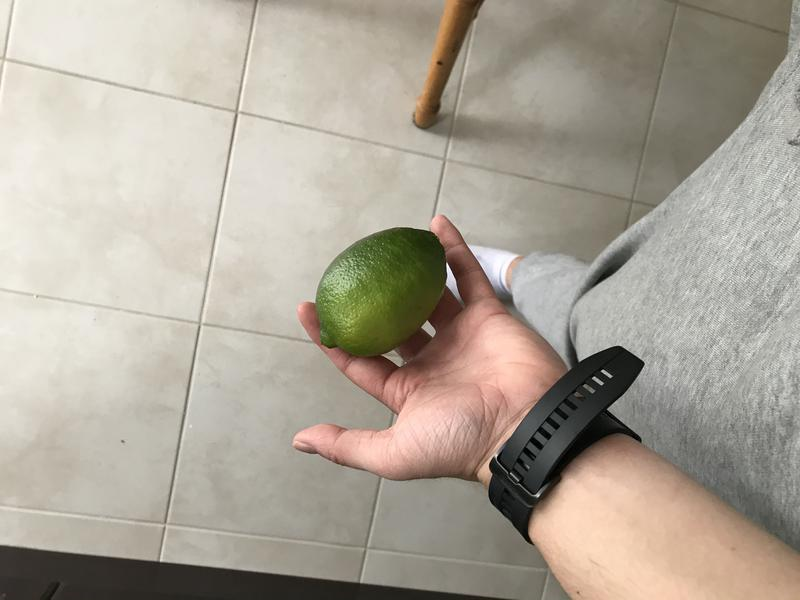lime: (296, 220, 466, 367)
